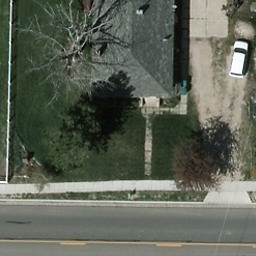car: (229, 40, 250, 79)
